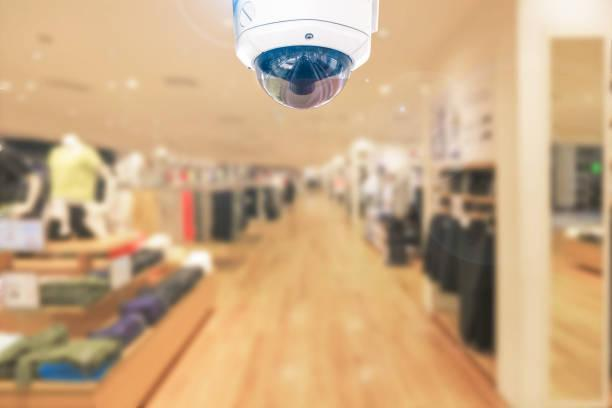camera: (217, 0, 389, 125)
